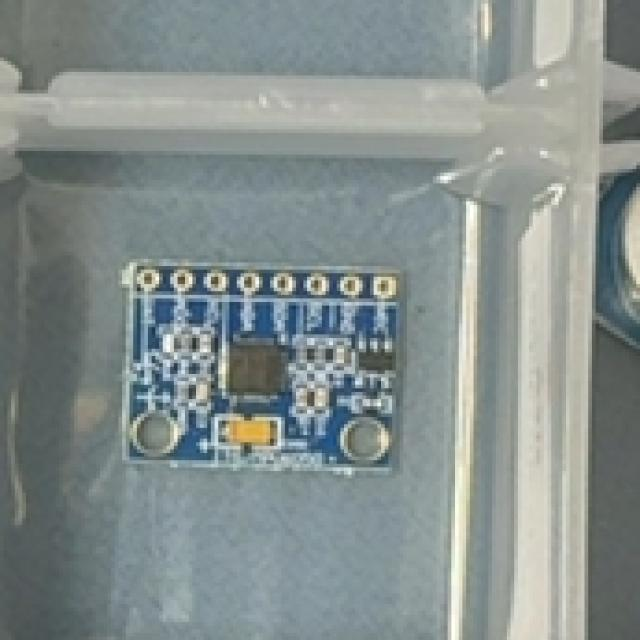Axis Accelerometer: (125, 263, 403, 475)
